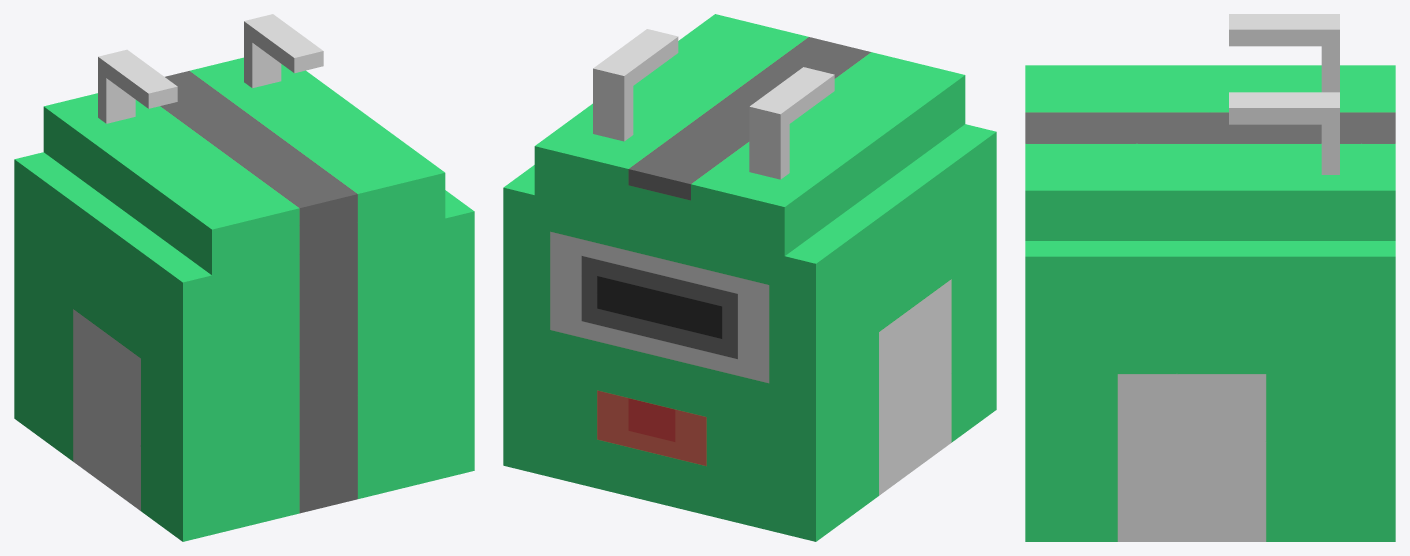
File: Char16.fbx
3 views of the same model, side by side, from view 1: azimuth 30°, elevation 25°; view 2: azimuth 150°, elevation 25°; view 3: azimuth 270°, elevation 25° (orthographic). The views are drawn at different scales.
Parts seen in each view (by area): view 1: Box; view 2: Box; view 3: Box.
Part boxes in pixels (x1,y1,x2,y2): Box: [14, 14, 474, 541]; Box: [503, 14, 996, 541]; Box: [1025, 14, 1395, 541].
Bounding box in the file's own units: 20 × 24 × 20.
